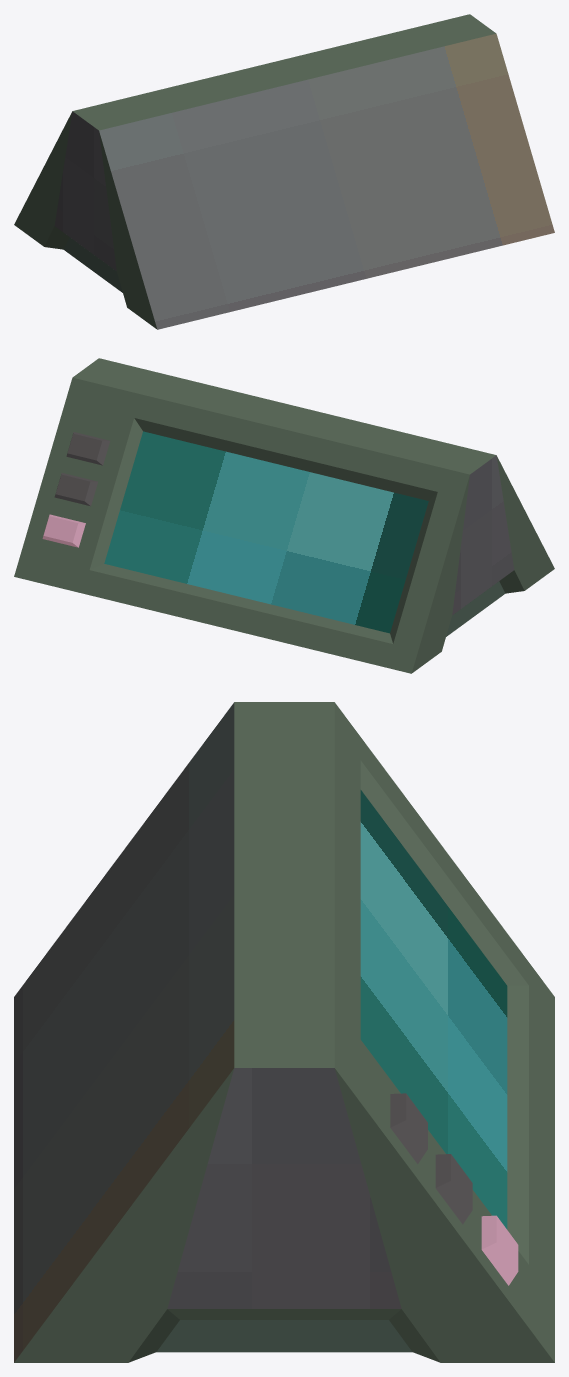
The model's file is entity113770.glb.
3 views of the same model, one above another, from view 1: azimuth 30°, elevation 25°; view 2: azimuth 150°, elevation 25°; view 3: azimuth 270°, elevation 25° (orthographic). The views are drawn at different scales.
Visible parts, largest first — view 1: node_SM_Prop_Monitor_14; view 2: node_SM_Prop_Monitor_14; view 3: node_SM_Prop_Monitor_14.
Boxes of the visible parts, x1=… form: node_SM_Prop_Monitor_14: x1=14, y1=14, x2=554, y2=329; node_SM_Prop_Monitor_14: x1=14, y1=358, x2=554, y2=673; node_SM_Prop_Monitor_14: x1=14, y1=702, x2=554, y2=1362.
Bounding box in the file's own units: 0.4 × 0.1504 × 0.25.
1 material, 1 textured.
